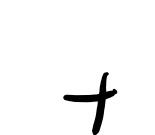plus: (63, 71, 116, 135)
